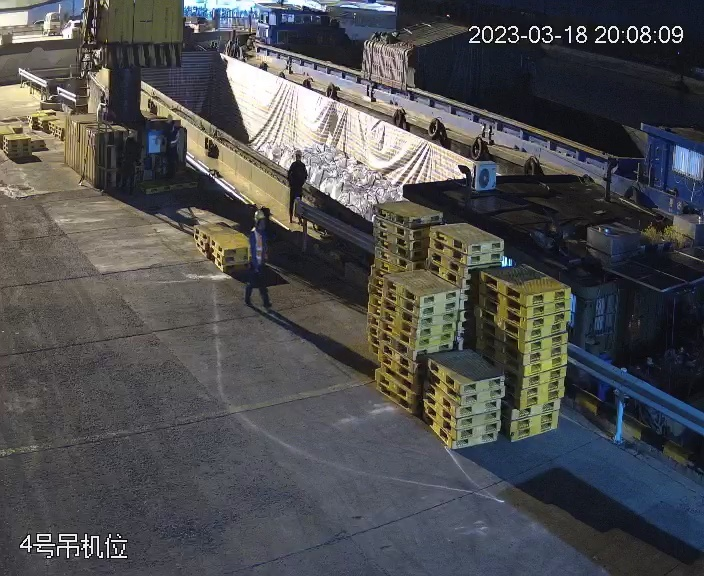head: (246, 209, 267, 244), (288, 148, 306, 171)
helmet: (253, 209, 265, 222), (293, 148, 303, 158)
people: (240, 208, 276, 309), (284, 148, 308, 223)
